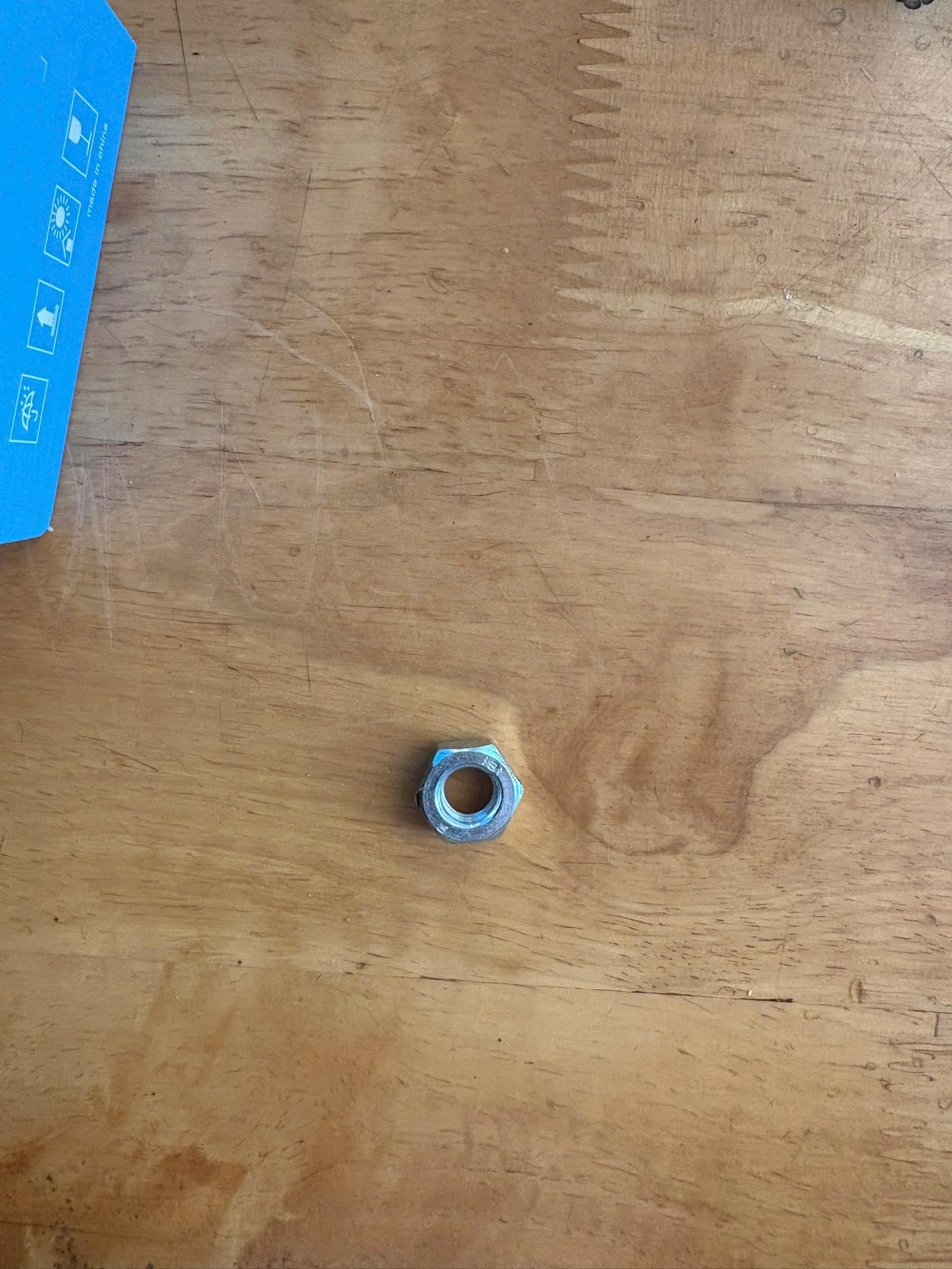nut: (409, 724, 549, 851)
